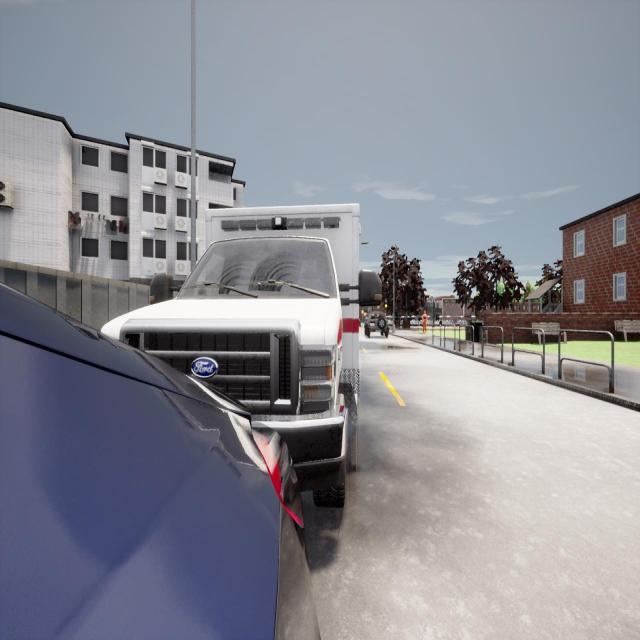Pedestrian: (422, 310, 428, 334)
Vehicle: (0, 286, 319, 637), (97, 206, 383, 514), (364, 312, 389, 338)
traffic_light: (384, 298, 388, 311)
